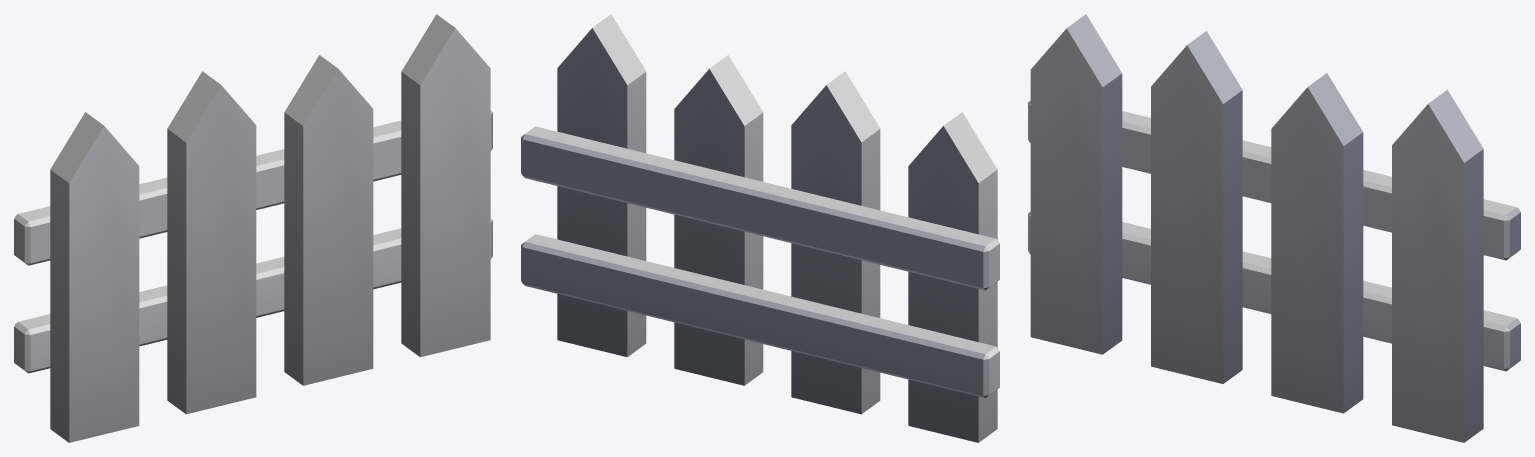
The model's file is fence_x.glb.
3 renders of one model, left to right at view 1: azimuth 30°, elevation 25°; view 2: azimuth 150°, elevation 25°; view 3: azimuth 330°, elevation 25°, orthographic. The views are drawn at different scales.
Parts seen in each view (by area): view 1: fence_x; view 2: fence_x; view 3: fence_x.
Boxes of the visible parts, x1=… form: fence_x: x1=14, y1=14, x2=492, y2=442; fence_x: x1=521, y1=14, x2=999, y2=442; fence_x: x1=1028, y1=14, x2=1520, y2=442.
Bounding box in the file's own units: 1 × 0.655 × 0.125.
